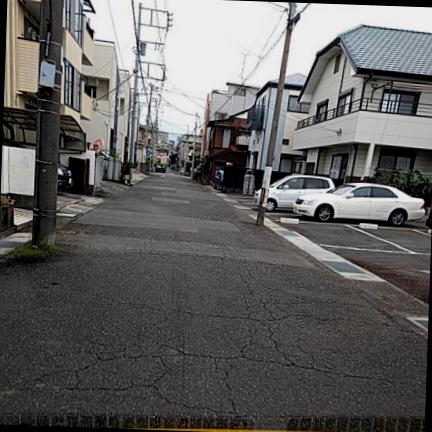Road: (0, 174, 428, 428)
